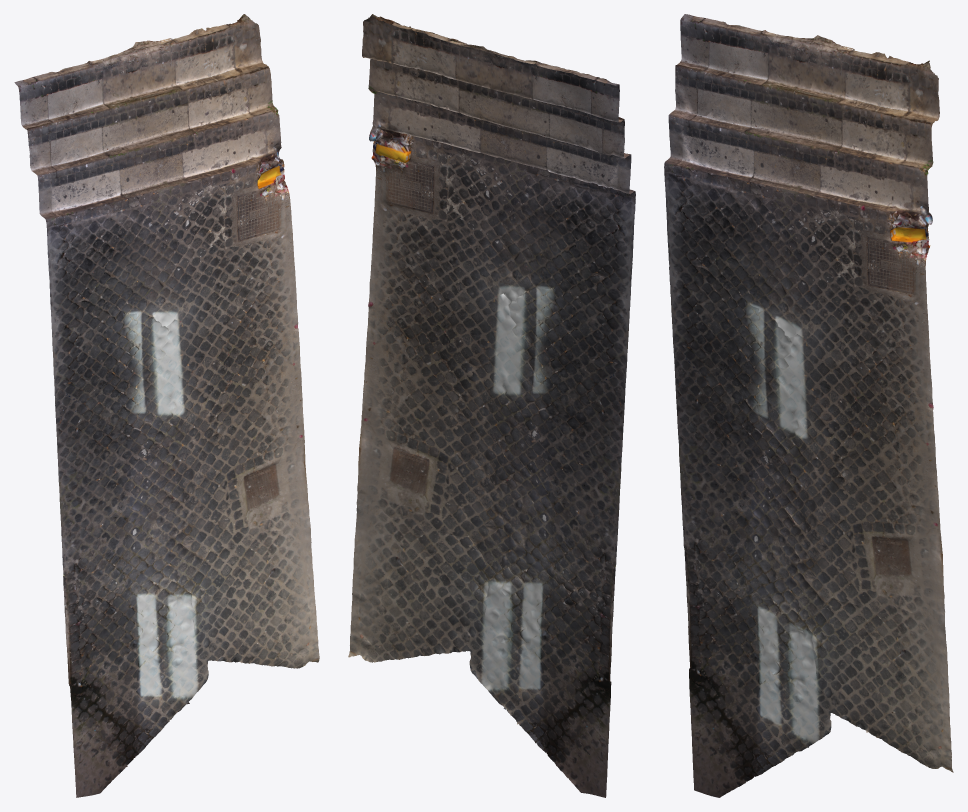
3 renders of one model, left to right at view 1: azimuth 30°, elevation 25°; view 2: azimuth 150°, elevation 25°; view 3: azimuth 330°, elevation 25°, orthographic. The views are drawn at different scales.
Visible parts, largest first — view 1: Object_1; view 2: Object_1; view 3: Object_1.
Part boxes in pixels (x1,y1,x2,y2): Object_1: [14, 14, 319, 797]; Object_1: [348, 14, 635, 797]; Object_1: [664, 14, 953, 797].
Size of the model in its own units: 12.91 by 2.55 by 31.71.
1 material, 1 textured.
